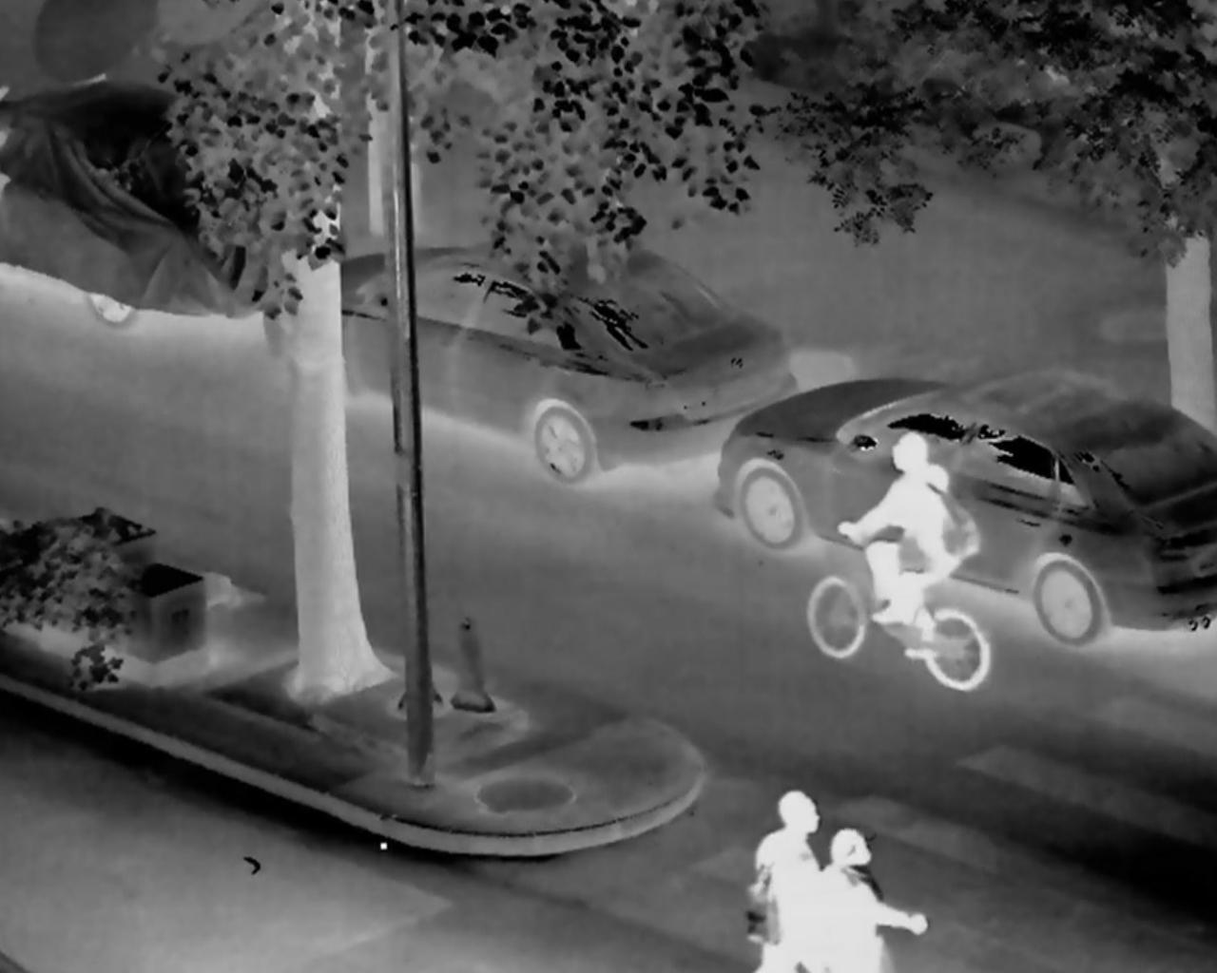person: (827, 395, 976, 668), (731, 771, 827, 973), (822, 810, 916, 973)
